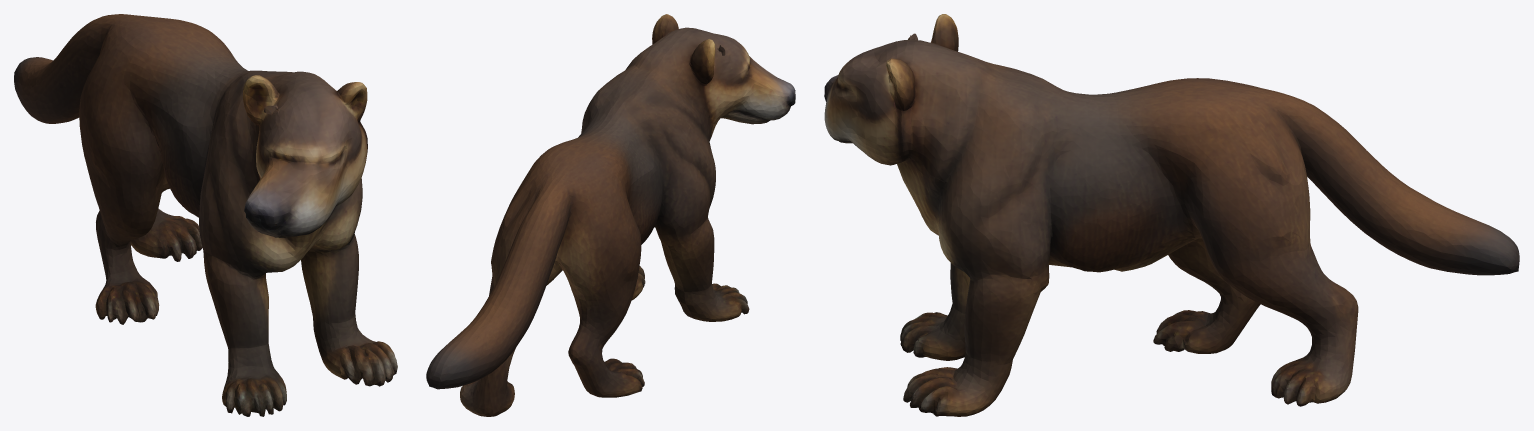
3 views of the same model, side by side, from view 1: azimuth 30°, elevation 25°; view 2: azimuth 150°, elevation 25°; view 3: azimuth 270°, elevation 25° (orthographic). The views are drawn at different scales.
Parts seen in each view (by area): view 1: world; view 2: world; view 3: world.
Boxes of the visible parts, x1=… form: world: x1=14, y1=14, x2=397, y2=416; world: x1=426, y1=14, x2=795, y2=416; world: x1=824, y1=14, x2=1519, y2=416.
Size of the model in its own units: 0.3318 by 0.5349 by 1.
1 material, 1 textured.
